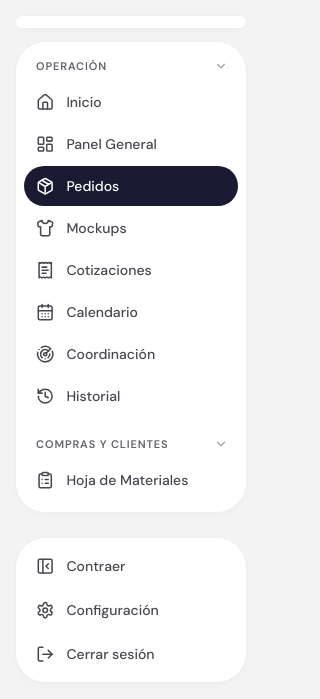
Scenario: AppSidebar con preferencias de barra (favoritos, ocultos, expandida) › expandida: muestra títulos, grupos plegables y el botón para contraer
The width and height of the screenshot is (320, 699).
Click the button with aria-label "Contraer barra lateral". click: (131, 566)
box: [24,546,238,586]
(page scrolled)
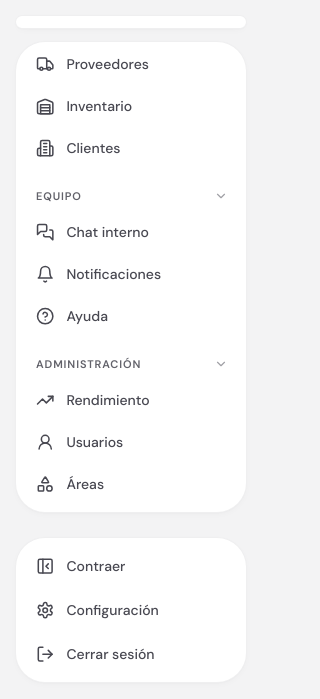
Click the button "Administración". click: (131, 364)
box: [24,348,238,380]
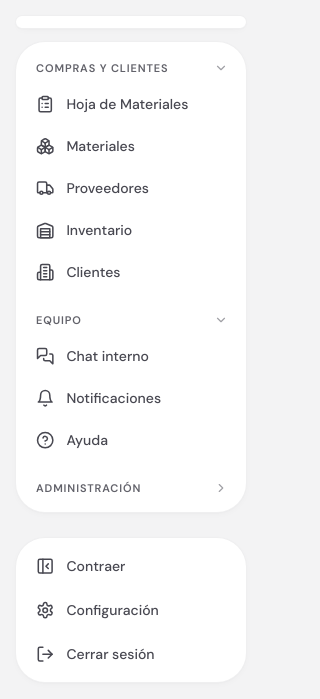
Expected: the button "Administración" is collapsed, [24,472,238,504]
